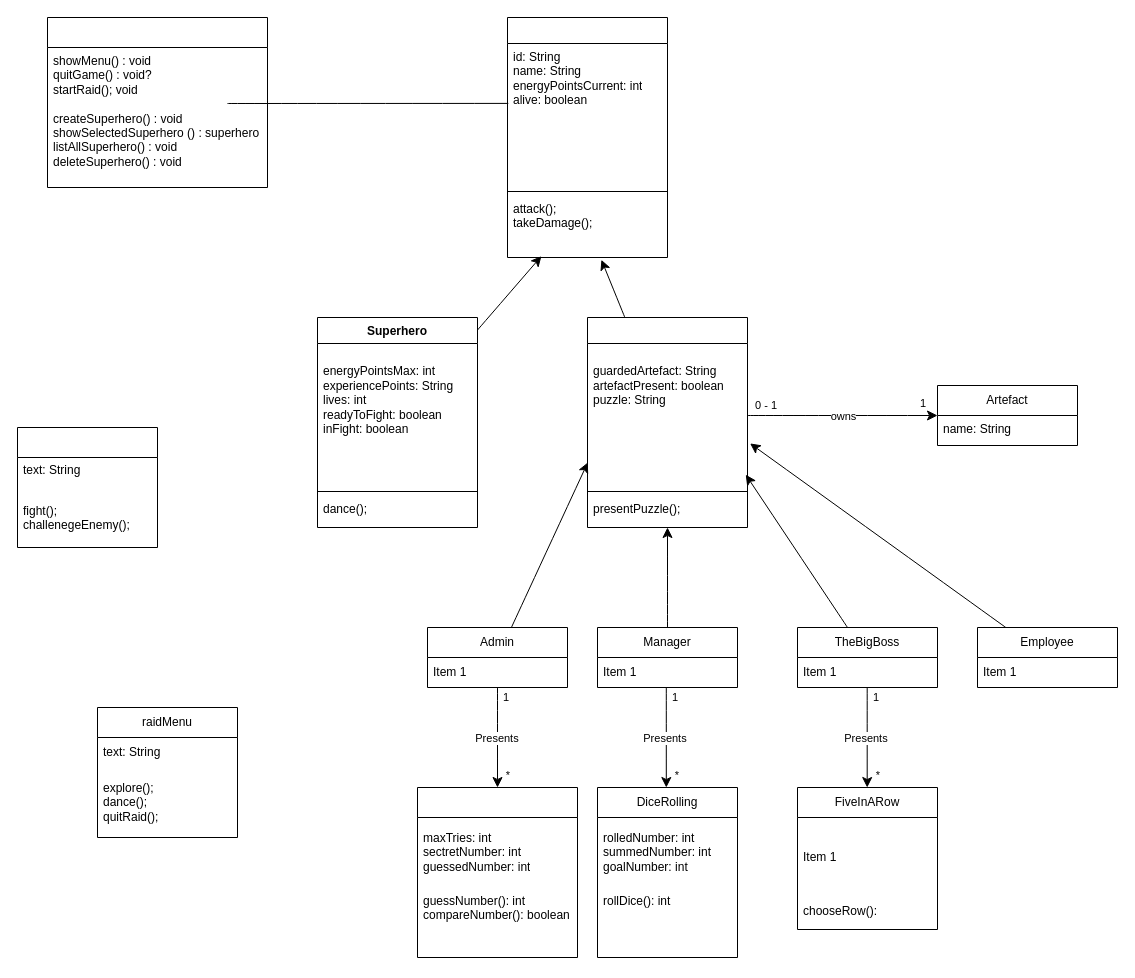
Image size: 1135x978. Some labels were removed from this diagram. The box of each missing label's shape, as (x1, y1, x2, y2) in pixels:
Character: (506, 16, 668, 258)
mainMenu: (46, 16, 268, 188)
meetEnemy: (16, 426, 158, 548)
NrGuessing: (416, 786, 578, 958)
Villain: (586, 316, 748, 528)
